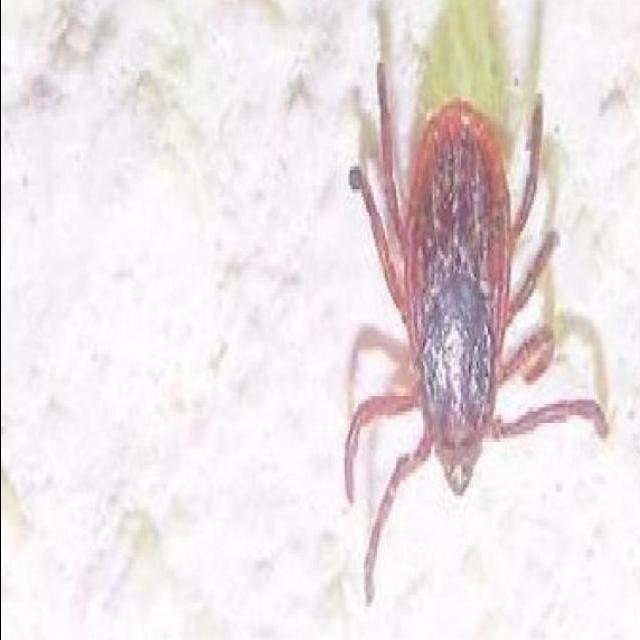Rhipicephalus Sanguineus-F: (347, 90, 612, 603)
